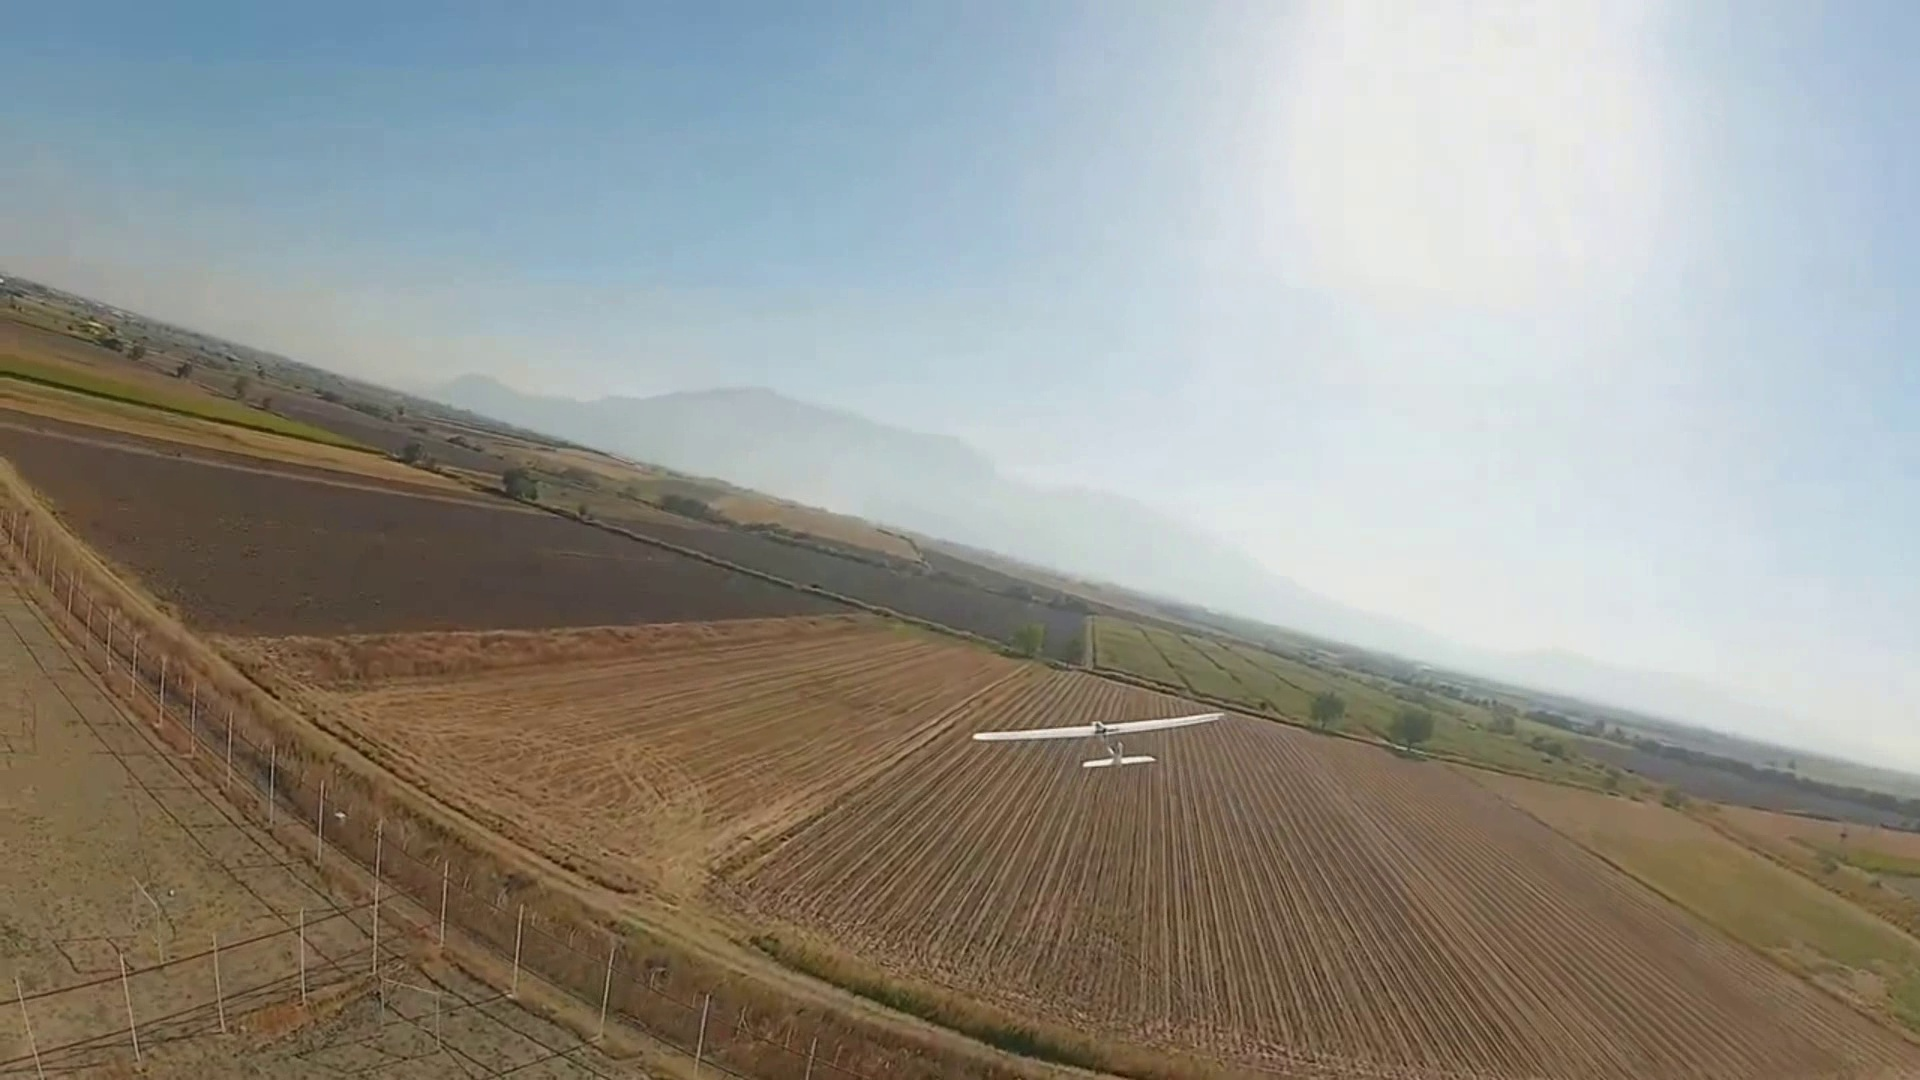airplane: (2, 263, 1907, 1026), (4, 271, 1906, 796)
